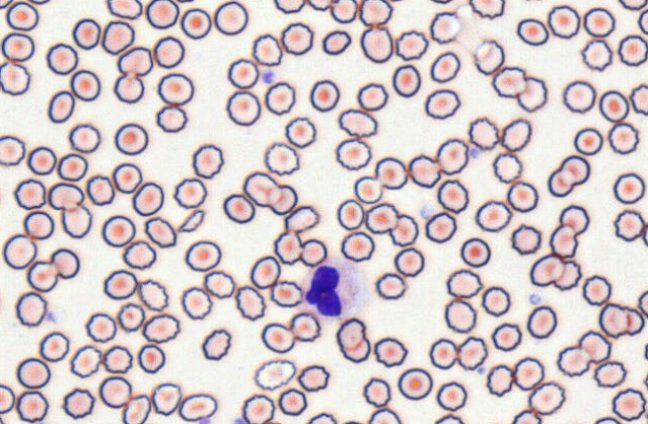GRAN: (302, 257, 367, 322)
PLT: (261, 69, 275, 84), (420, 205, 435, 218), (529, 292, 542, 305), (470, 147, 480, 159)
RBC: (547, 154, 590, 197), (598, 302, 644, 338), (335, 317, 370, 363), (254, 358, 296, 390), (225, 90, 261, 126), (528, 380, 565, 415), (243, 171, 279, 206), (2, 233, 37, 269), (213, 0, 248, 35), (436, 138, 469, 175), (475, 199, 512, 232), (360, 26, 393, 63), (157, 72, 194, 105), (611, 387, 646, 421), (264, 141, 299, 175), (335, 137, 371, 170), (515, 75, 547, 112), (472, 38, 504, 75), (178, 392, 217, 422), (337, 108, 377, 137), (101, 20, 135, 54), (562, 79, 596, 113), (529, 253, 564, 286), (397, 367, 432, 400), (191, 143, 224, 178), (15, 291, 47, 327), (184, 240, 221, 271), (142, 313, 180, 343), (98, 375, 132, 408), (69, 344, 102, 378), (408, 154, 441, 188), (101, 214, 135, 247), (280, 21, 313, 55), (114, 122, 148, 155), (547, 4, 580, 38), (16, 357, 51, 389), (234, 285, 266, 320), (444, 298, 476, 333), (132, 181, 164, 216), (424, 88, 460, 119), (374, 156, 407, 189), (60, 204, 92, 238), (364, 202, 398, 234), (15, 390, 49, 422), (260, 322, 295, 353), (491, 66, 526, 97), (446, 268, 482, 298), (117, 46, 153, 76), (47, 181, 84, 210), (578, 330, 611, 362), (180, 286, 212, 319), (137, 278, 169, 311), (62, 387, 95, 419), (150, 382, 182, 415), (424, 211, 457, 243), (46, 42, 78, 75), (556, 346, 590, 377), (249, 255, 280, 289), (456, 336, 487, 370), (513, 356, 544, 390), (526, 305, 557, 339), (373, 336, 407, 367), (103, 269, 137, 300), (437, 179, 468, 213), (468, 116, 499, 150), (173, 177, 207, 208), (5, 0, 39, 31), (264, 81, 295, 115), (0, 60, 30, 95), (26, 260, 58, 292), (613, 209, 645, 241), (506, 180, 538, 212), (429, 11, 461, 43), (284, 116, 316, 148), (580, 39, 612, 71), (613, 172, 645, 204), (607, 122, 639, 154), (13, 178, 46, 209), (143, 216, 176, 247), (500, 118, 531, 151), (395, 29, 428, 60), (153, 35, 184, 68), (309, 79, 340, 112), (340, 231, 374, 261), (122, 239, 156, 269), (284, 204, 319, 233), (227, 58, 259, 89), (180, 7, 211, 39), (70, 69, 101, 101), (388, 213, 418, 246), (222, 193, 255, 223), (252, 33, 282, 66), (1, 32, 34, 62), (68, 123, 101, 153), (241, 394, 275, 423), (145, 0, 179, 29), (23, 209, 54, 240), (113, 72, 144, 103), (510, 223, 541, 254), (289, 312, 321, 342), (50, 247, 80, 279), (201, 328, 231, 360), (85, 312, 117, 342), (617, 34, 647, 66), (430, 51, 460, 83), (599, 90, 629, 122), (583, 7, 615, 37), (549, 224, 578, 257), (273, 231, 302, 264), (392, 64, 421, 97), (516, 17, 549, 46), (559, 204, 589, 235), (436, 381, 467, 411), (39, 331, 69, 362), (492, 152, 522, 183), (112, 162, 142, 193), (203, 269, 235, 298), (72, 18, 101, 50), (485, 363, 513, 396), (47, 90, 75, 123), (267, 184, 297, 214), (121, 394, 151, 424), (394, 247, 424, 277), (460, 237, 490, 267), (582, 274, 611, 305), (481, 285, 510, 316), (86, 174, 115, 205), (57, 152, 88, 181), (357, 82, 388, 111), (270, 279, 302, 307), (336, 198, 364, 230), (155, 104, 187, 132), (593, 360, 626, 387), (353, 175, 383, 204), (277, 387, 307, 416), (362, 377, 391, 407), (491, 322, 521, 351), (27, 145, 56, 175), (554, 259, 582, 290), (429, 338, 457, 369), (102, 345, 133, 373), (297, 364, 329, 391), (375, 272, 407, 299), (359, 0, 392, 26), (117, 302, 145, 332), (137, 343, 165, 373), (573, 127, 603, 155), (299, 238, 327, 267), (0, 134, 25, 166), (321, 29, 351, 55), (106, 0, 142, 19), (469, 0, 504, 19), (329, 0, 357, 23), (629, 83, 647, 115), (367, 407, 401, 423), (0, 383, 15, 414), (511, 408, 542, 423), (273, 0, 305, 13), (307, 412, 337, 423), (637, 289, 648, 317), (434, 413, 464, 423), (618, 0, 647, 10), (307, 0, 332, 11), (593, 415, 622, 424), (638, 8, 647, 35), (642, 221, 648, 246), (0, 286, 4, 316), (27, 0, 51, 5), (0, 0, 13, 9), (261, 419, 284, 424), (341, 419, 364, 424), (478, 420, 506, 424), (643, 369, 648, 390), (643, 340, 648, 360), (429, 0, 453, 4), (0, 180, 3, 208), (175, 0, 195, 3)
Schistocyte: (177, 210, 206, 233)
